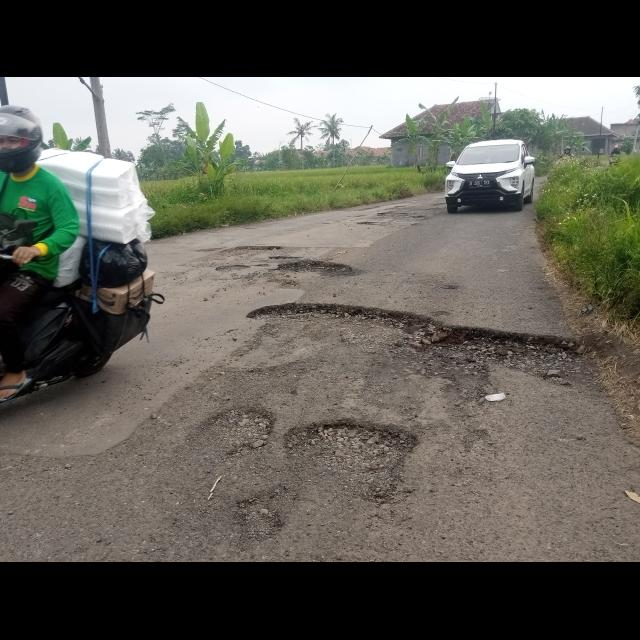lubang_kecil: (235, 294, 586, 406), (273, 404, 432, 504), (176, 395, 267, 460), (220, 477, 297, 543), (267, 257, 366, 283), (224, 238, 287, 258), (212, 260, 263, 278)
